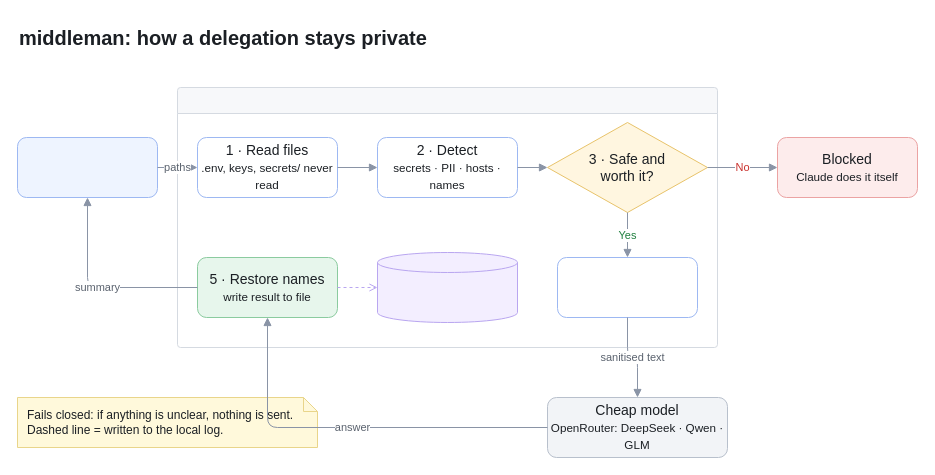
This 935x475 diagram has some shape labels left out. The box of each missing label's shape, as (x1, y1, x2, y2) in pixels:
4 · Fake names + egress re-scan: (556, 256, 698, 318)
Claude Code trusted · sees everything: (16, 136, 158, 198)
Ledger model · cost · saving: (376, 252, 518, 322)
middleman · on your machine: (176, 86, 718, 348)
